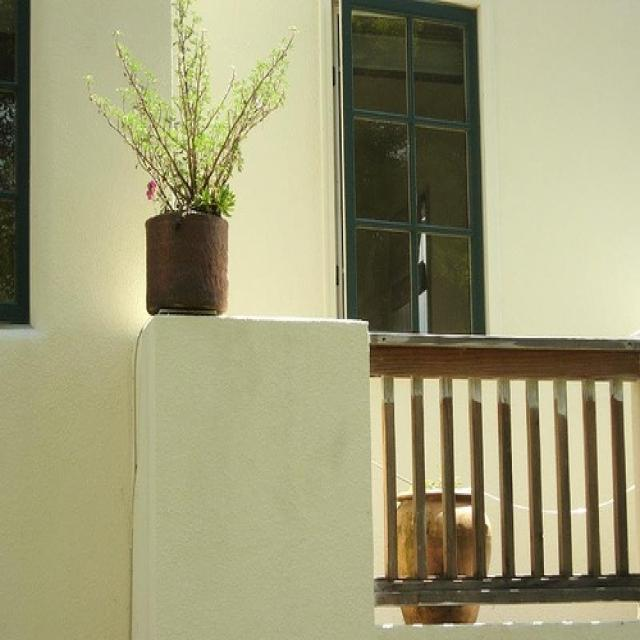pottedplant: (74, 2, 301, 317), (389, 469, 493, 630)
